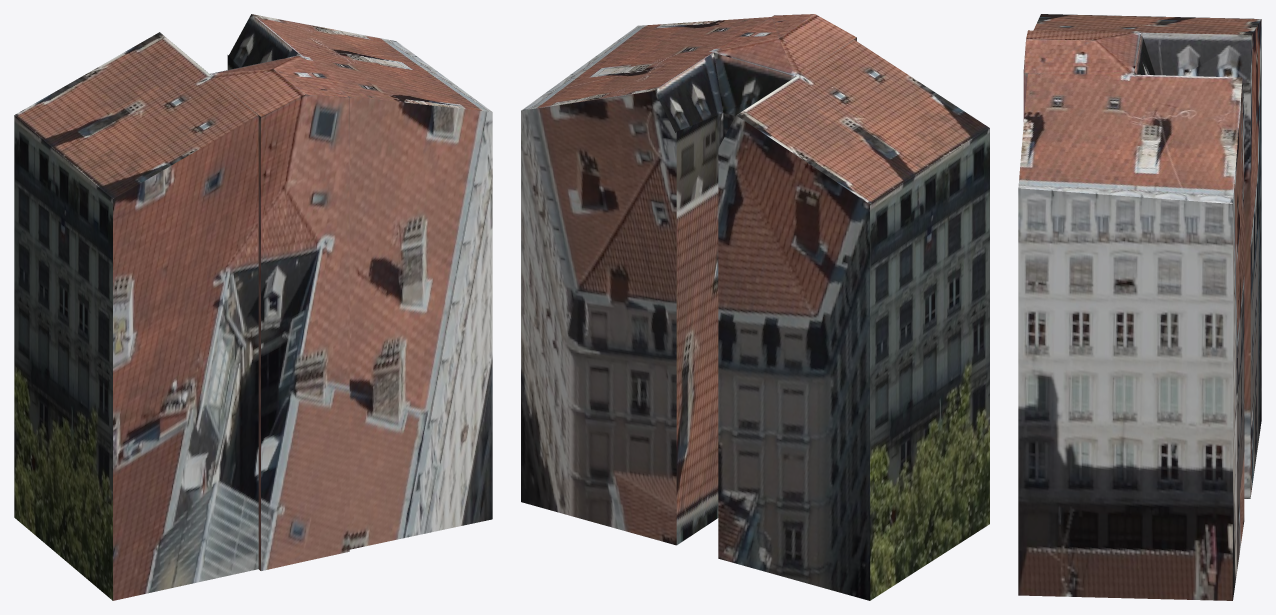
The picture shows the model from 3 angles, left to right: view 1: azimuth 30°, elevation 25°; view 2: azimuth 150°, elevation 25°; view 3: azimuth 270°, elevation 25°; orthographic projection.
Parts seen in each view (by area): view 1: Z_UP; view 2: Z_UP; view 3: Z_UP.
Part boxes in pixels (bbox=[...]): Z_UP: bbox=[14, 14, 492, 600]; Z_UP: bbox=[521, 14, 989, 600]; Z_UP: bbox=[1018, 14, 1261, 600].
Bounding box in the file's own units: 22.36 × 26.27 × 12.4.
2 materials, 1 textured.
